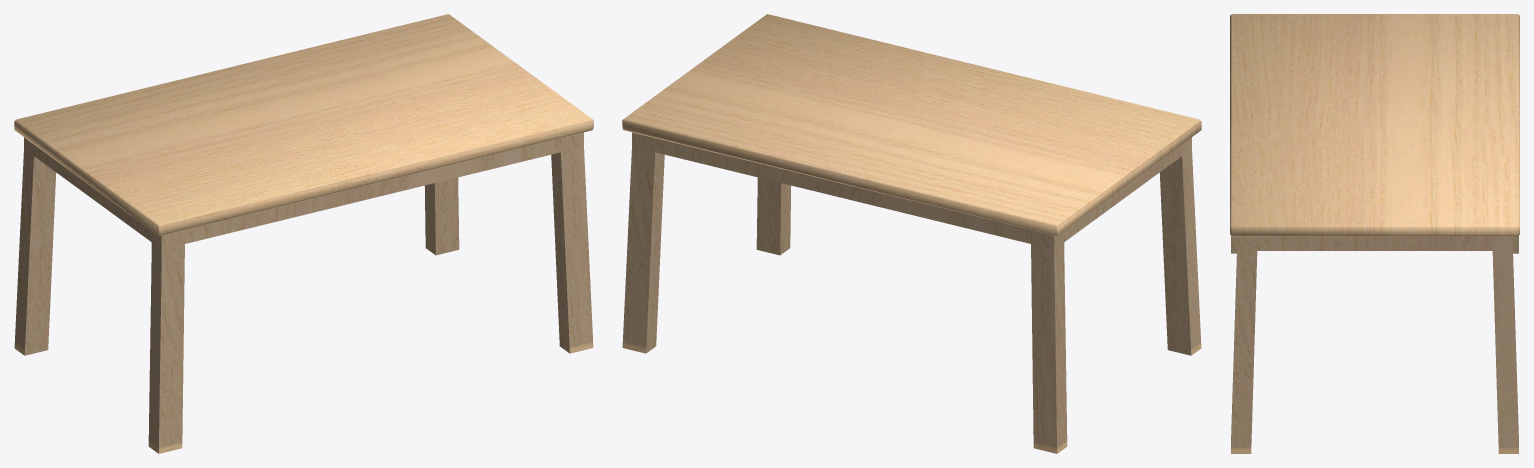
Rendered from table_1.obj.
3 renders of one model, left to right at view 1: azimuth 30°, elevation 25°; view 2: azimuth 150°, elevation 25°; view 3: azimuth 270°, elevation 25°, orthographic.
Visible parts, largest first — view 1: table_1; view 2: table_1; view 3: table_1.
Part boxes in pixels (x1,y1,x2,y2): table_1: (14, 14, 593, 453); table_1: (622, 14, 1201, 453); table_1: (1230, 14, 1519, 453).
Size of the model in its own units: 15.95 by 8 by 9.18.
1 material, 1 textured.
